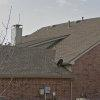Chimney: (8, 17, 29, 52)
